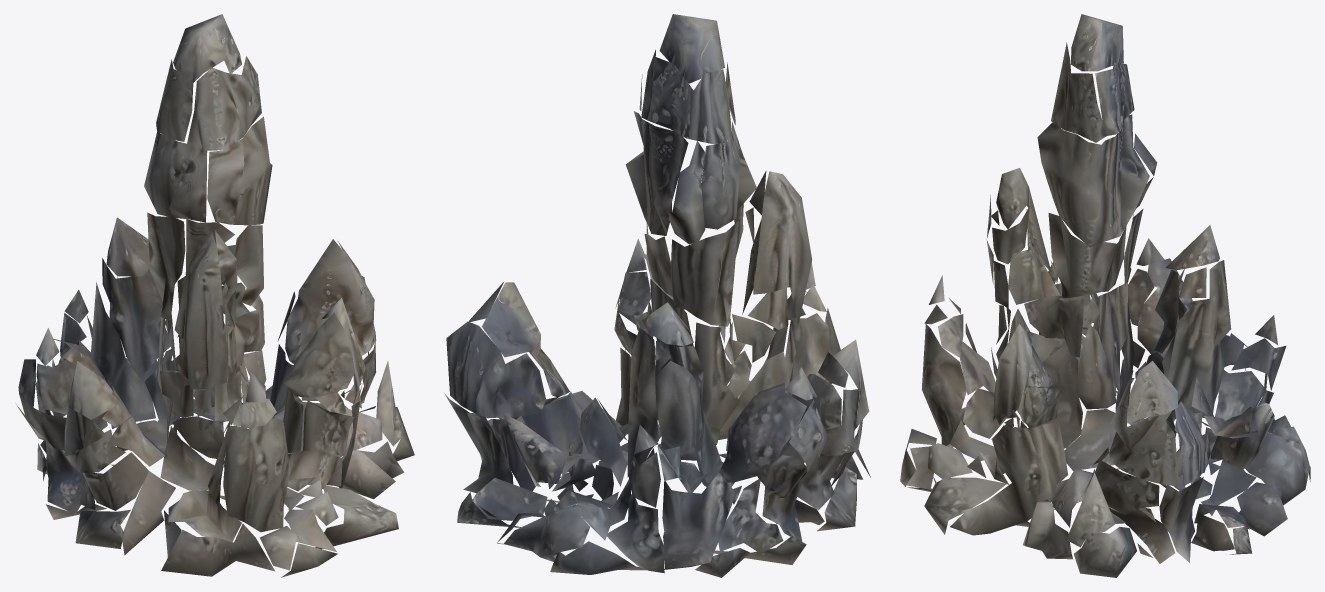
File: env_stalagmite_cluster_LOD3.glb
The picture shows the model from 3 angles, left to right: view 1: azimuth 30°, elevation 25°; view 2: azimuth 150°, elevation 25°; view 3: azimuth 270°, elevation 25°; orthographic projection. The views are drawn at different scales.
Parts seen in each view (by area): view 1: tripo_node_b958e5c8-be07-4208-9d87-b0ac715ece63; view 2: tripo_node_b958e5c8-be07-4208-9d87-b0ac715ece63; view 3: tripo_node_b958e5c8-be07-4208-9d87-b0ac715ece63.
Part boxes in pixels (<box>): tripo_node_b958e5c8-be07-4208-9d87-b0ac715ece63: <box>15,14,414,577</box>; tripo_node_b958e5c8-be07-4208-9d87-b0ac715ece63: <box>444,14,870,577</box>; tripo_node_b958e5c8-be07-4208-9d87-b0ac715ece63: <box>900,14,1310,577</box>.
Size of the model in its own units: 0.7657 by 0.9938 by 0.7745.
1 material, 1 textured.
